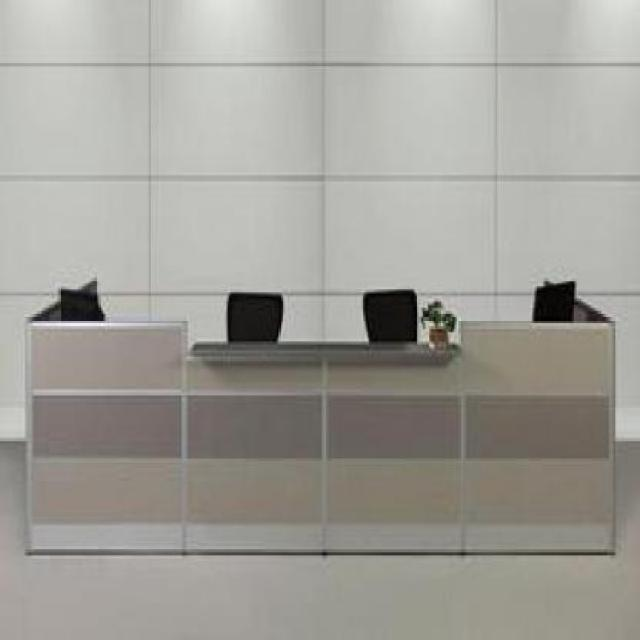frontdesk: (16, 271, 630, 577)
